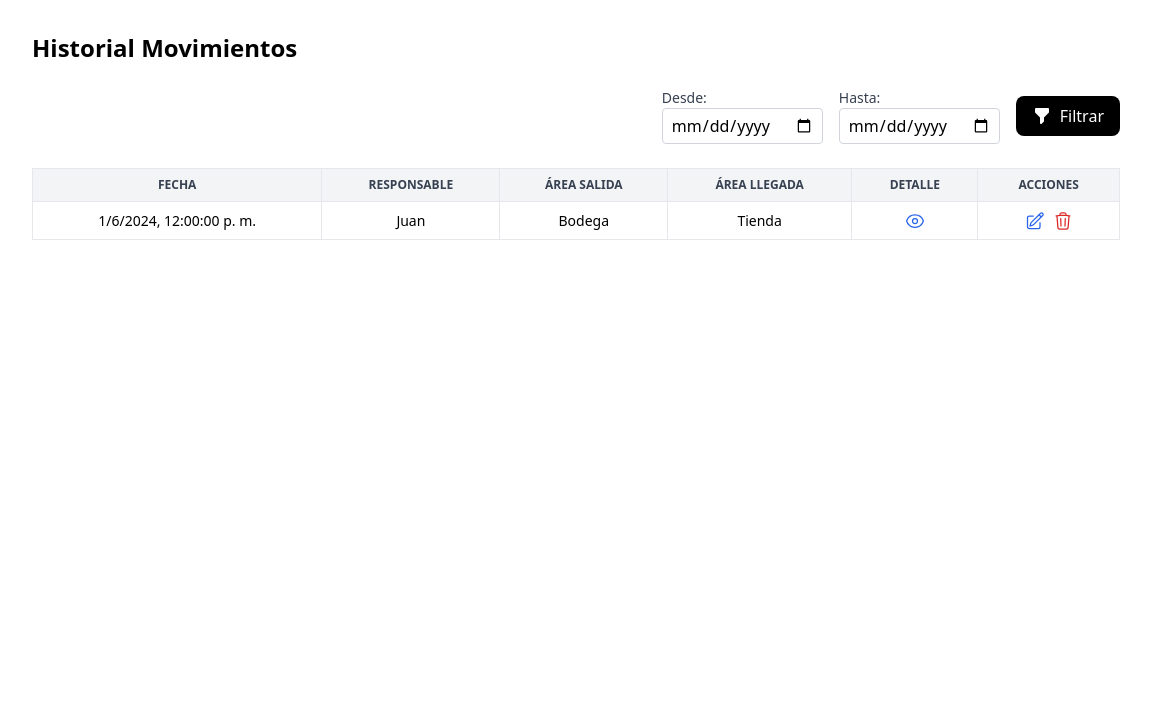
HistorialMovimientos › abre el modal de edición
Expected: the text "Juan" is shown, [322,202,500,240]
Click the button titled "Editar": (1035, 221) [1025,210,1045,231]
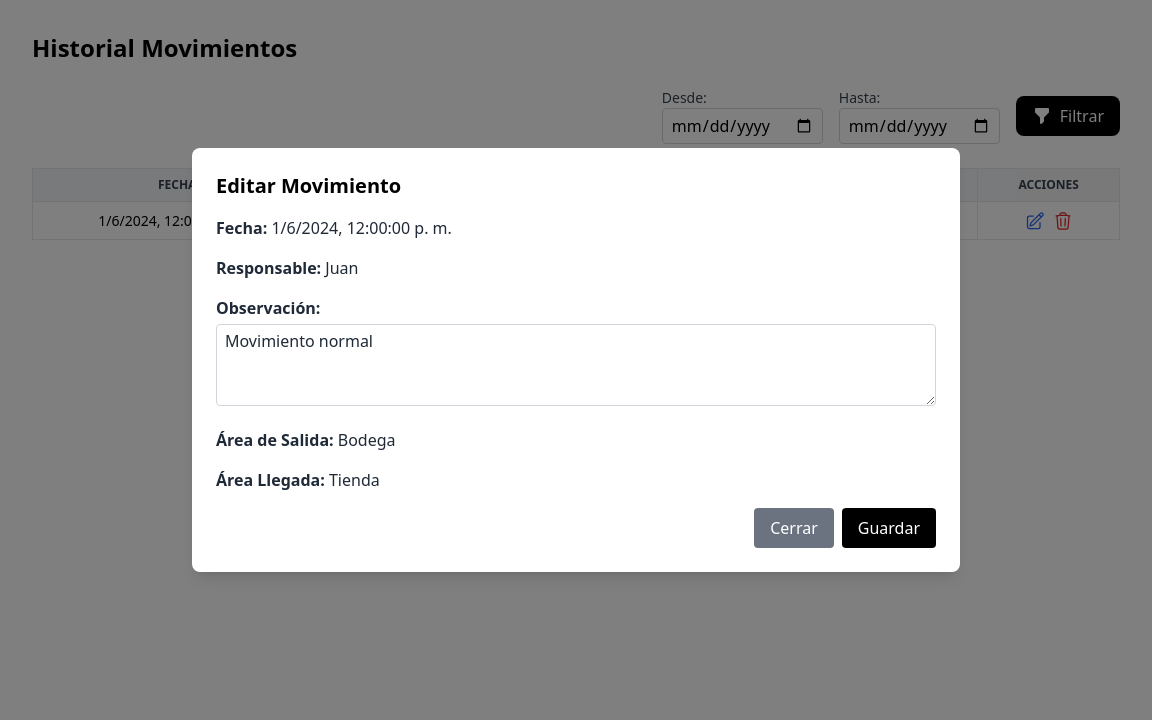
Result: the heading "Editar Movimiento" is shown at [216,172,401,199]
Result: the text box showing "Movimiento normal" is shown at [216,324,936,406]
